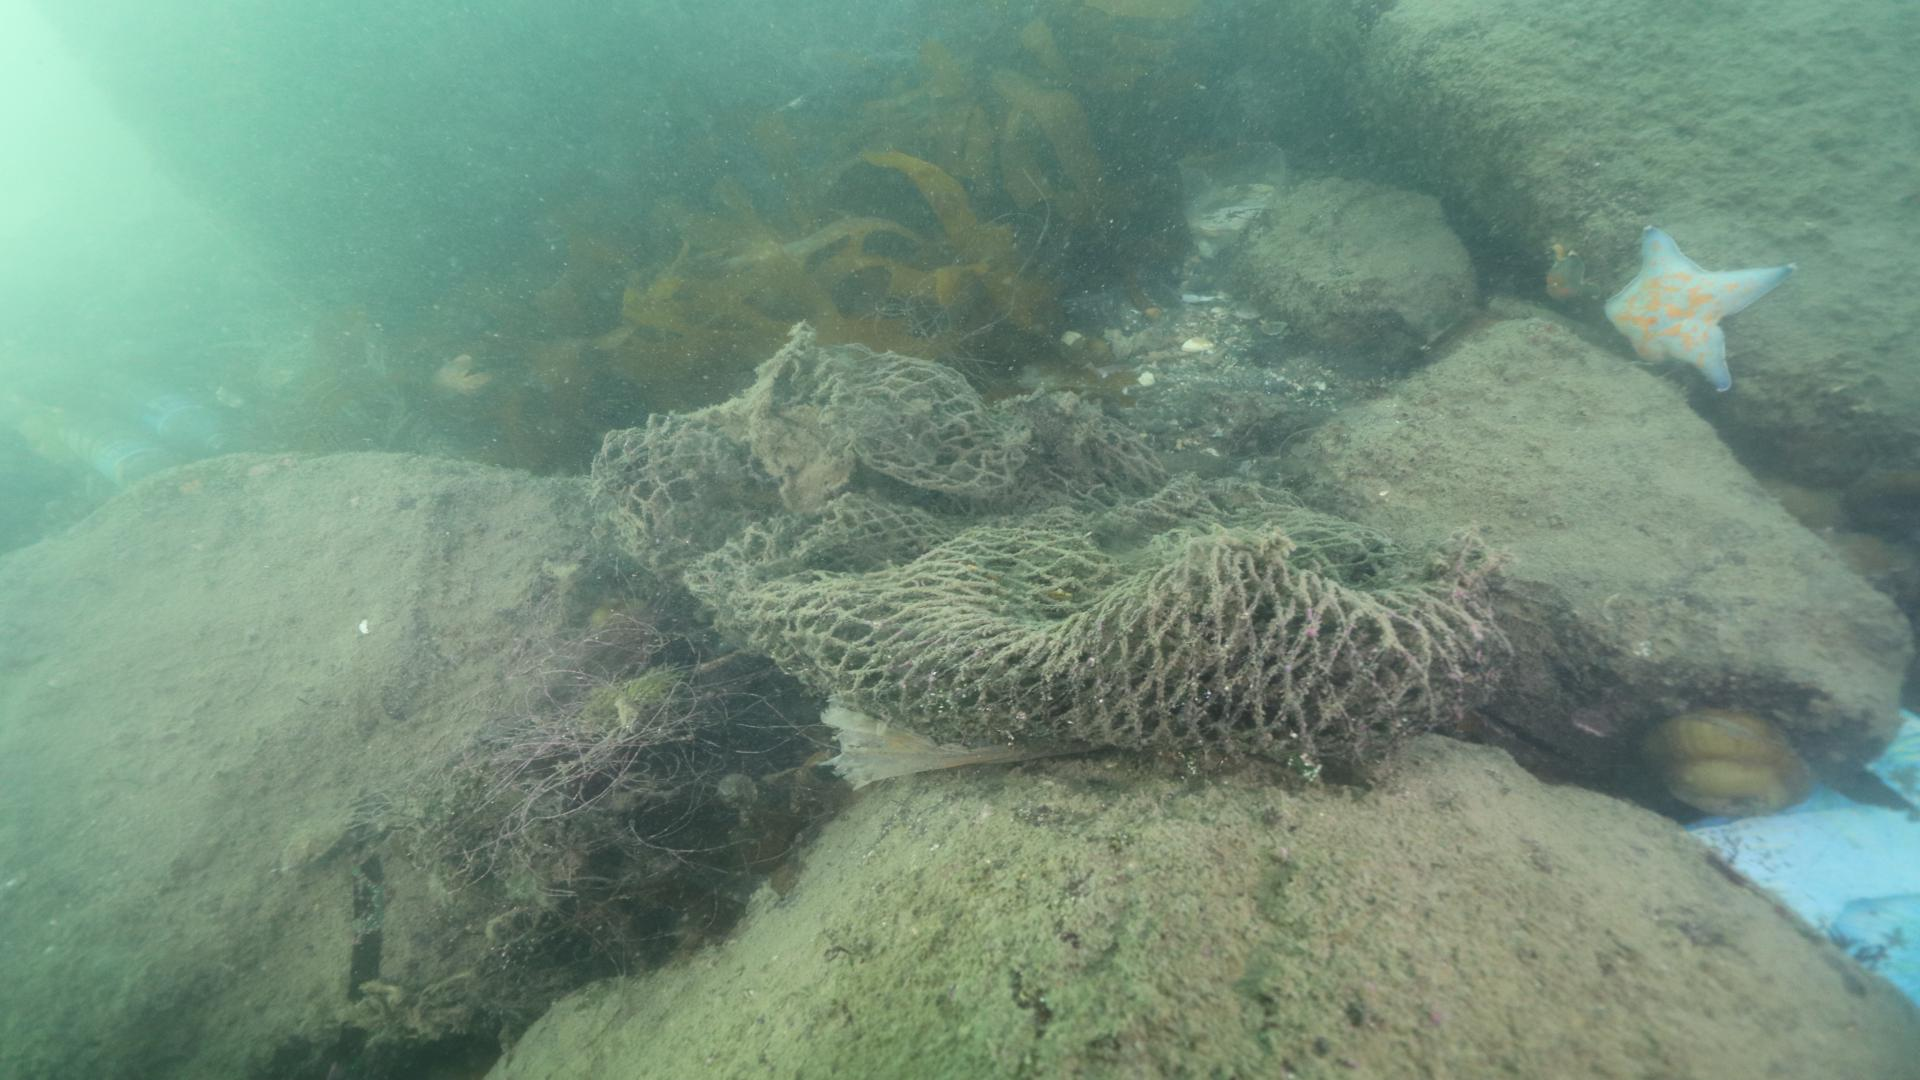fish net: (589, 319, 1516, 760)
